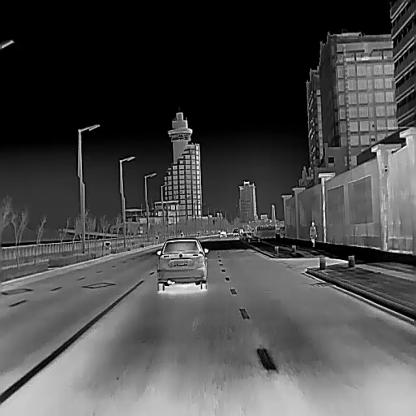car: (156, 237, 208, 289), (309, 221, 317, 247), (220, 229, 226, 238), (233, 226, 238, 236)
